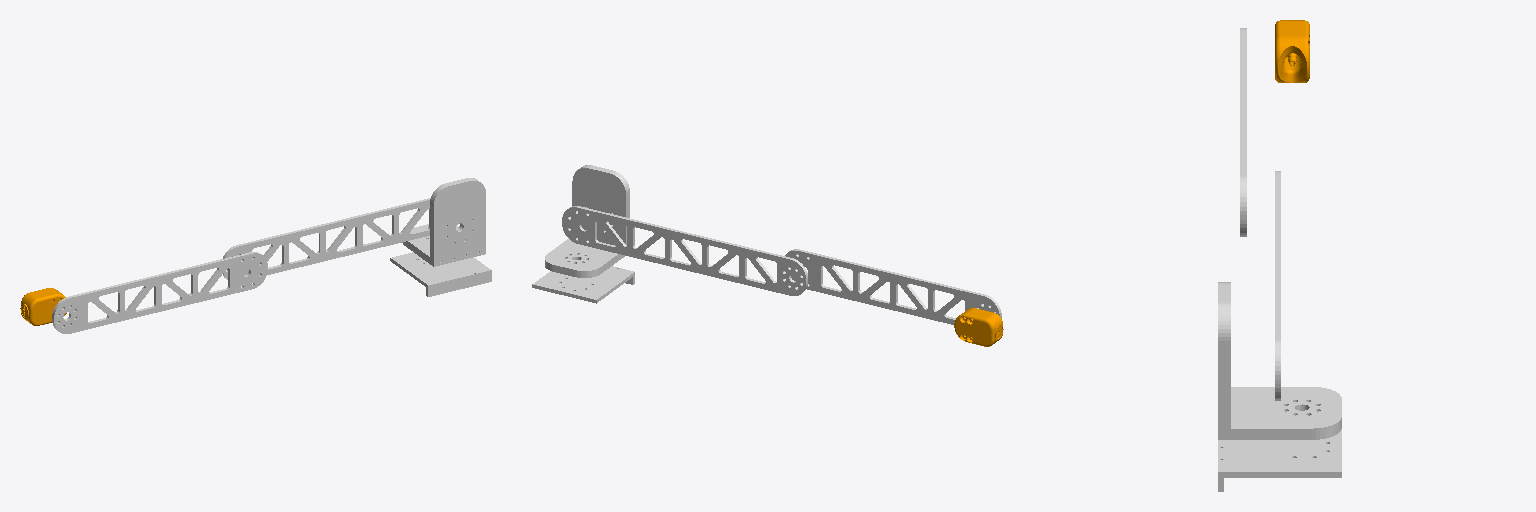
robot.urdf — pokerBot:
<?xml version="1.0"?>

<robot name="pokerBot">

    <link name="world"/>

    <joint name="placement" type="fixed"> <!-- Placement of base w.r.t world -->
        <parent link="world"/>
        <child link="baseplate"/>
        <origin xyz="0 0 0" rpy="0 0 0"/>
    </joint>

    <link name="baseplate">
        <visual>
            <origin xyz="0 0.0625 0" rpy="1.5708 0 -1.5708"/> <!-- Placement of baseplate VISUAL -->
                <geometry>
                    <mesh filename="package://pb_utils/meshes/base_Ass.STL"
                                scale="0.001 0.001 0.001"/>
                </geometry>
                <material name="metal"/>
        </visual>
    </link>

    <joint name="baseplate" type="fixed">
        <parent link="baseplate"/>
        <child link="basemotor"/>
        <origin xyz="0 0.085 0.0067" rpy="0 0 0"/> <!-- Baseplate connection to basemotor frame -->
    </joint>

    <!-- BASE MOTOR: Thickness: X5 = 31.1mm, X8 = 45.1mm -->
    <link name="basemotor">
        <visual>
            <origin xyz="0 0 0" rpy="0 0 1.5708"/>
            <geometry>
                <mesh filename="package://pb_utils/meshes/X5.stl"
	      scale="0.001 0.001 0.001"/>
            </geometry>
            <material name="hebi"/>
        </visual>
    </link>

    <joint name="base" type="continuous"> <!-- Revolute pan angle joint -->
        <parent link="basemotor"/>
        <child link="lbracket"/>
        <origin xyz="0 0 0.0311" rpy="0 0 0"/>
        <axis xyz="0 0 1"/>
    </joint>

    <link name="lbracket">
        <visual>
        <origin xyz="0 0 0" rpy="1.5708 0 0"/>
            <geometry>
                <mesh  filename="package://pb_utils/meshes/lb_ass.STL"
                scale="0.001 0.001 0.001"/>
            </geometry>
            <material name="metal"/>
        </visual>
    </link>

    <joint name="lbracket" type="fixed">
        <parent link="lbracket"/>
        <child link="shouldermotor"/>
        <origin xyz="0 -0.0725 0.060" rpy="0 -1.5708 0"/> <!-- L BRACKET DIMENIONS -->
    </joint>

    <!-- SHOULDER MOTOR: Thickness: X5 = 31.1mm, X8 = 45.1mm -->
    <link name="shouldermotor">
        <visual>
            <origin xyz="0 0 0" rpy = "-1.5708 3.1412 0"/>
            <geometry>
                <mesh filename="package://pb_utils/meshes/X8.stl"
	      scale="0.001 0.001 0.001"/>
            </geometry>
            <material name="hebi"/>
        </visual>
    </link>

    <joint name="shoulder" type="continuous">
        <parent link="shouldermotor"/>
        <child link="upperarm"/>
        <origin xyz="0 0.0451 0" rpy="0 0 0"/> <!-- Revolute shoulder joint location -->
        <axis xyz="0 1 0"/>
    </joint>

    <link name="upperarm">
        <visual>
            <origin xyz="0.03255 0 -0.04" rpy = "0 -1.5708 0"/>
            <geometry>
                <mesh filename="package://pb_utils/meshes/18in_Arm_V2.STL"
                            scale="0.001 0.001 0.001"/>
            </geometry>
            <material name="metal"/>
        </visual>
    </link>

    <joint name="upperarm" type="fixed">
        <parent link="upperarm"/>
        <child link="elbowmotor"/>
        <origin xyz="0 0 0.3922" rpy="0 0 0"/> <!-- upperarm dimension -->
    </joint>

    <!-- Elbow motor.  Thickness: X5 = 31.1mm, X8 = 45.1mm -->
    <link name="elbowmotor">
        <visual>
            <origin xyz="0 0 0" rpy = "1.5708 -1.5708 0"/>
            <geometry>
                <mesh filename="package://pb_utils/meshes/X5.stl"
	      scale="0.001 0.001 0.001"/>
            </geometry>
            <material name="hebi"/>
        </visual>
    </link>

    <joint name="elbow" type="continuous">
        <parent link="elbowmotor"/>
        <child  link="lowerarm"/>
        <origin xyz="0 -0.035 0" rpy="0 0 0"/>
        <axis   xyz="0 -1 0"/>
    </joint>

    <!-- Shift across the upper arm (1/4in thickness) -->
    <link name="lowerarm">
        <visual>
            <origin xyz="0.03255 0 -0.04" rpy = "0 -1.5708 0"/>
            <geometry>
                <mesh filename="package://pb_utils/meshes/16in_Arm_V2.STL"
                            scale="0.001 0.001 0.001"/>
            </geometry>
            <material name="metal"/>
        </visual>
    </link>

    <joint name="lowerarm" type="fixed">
        <parent link="lowerarm"/>
        <child  link="tipmotor"/>
        <origin xyz="0 0 0.3411" rpy="0 0 0"/>		  <!-- LOWER ARM DIMENIONS -->
    </joint>

    <!-- Tip motor.  Thickness: X5 = 31.1mm, X8 = 45.1mm -->
    <link name="tipmotor">
        <visual>
            <origin xyz="0 0.0067 0" rpy = "-1.5708 -1.5708 0"/>
            <geometry>
                <mesh filename="package://pb_utils/meshes/X5.stl"
	      scale="0.001 0.001 0.001"/>
            </geometry>
            <material name="hebi"/>
        </visual>
    </link>

    <joint name="tip" type="continuous">
        <parent link="tipmotor"/>
        <child link="cup"/>
        <origin xyz="0 0.035 0" rpy="0 -1.5708 0"/>
        <axis xyz="0 1 0"/>
    </joint>

    <link name="cup">
        <visual>
            <origin xyz="0 0 0" rpy="0 0 0"/>
                <geometry>
                    <mesh filename="package://pb_utils/meshes/endeff_ass.STL"
                                scale="0.001 0.001 0.001"/>
                </geometry>
            <material name="plastic"/>
        </visual>
    </link>

    <!-- VISUAL LINK ELEMENTS -->

    <material name="metal"> <color rgba=".89 .89 .89 1"/> </material>
    <material name="hebi">  <color rgba="0.82 0.06 0.06 1"/>  </material>
    <material name="plastic"> <color rgba="1 .65 0 1"/> </material>

</robot>

--- What the picture shows (computed from the rendered views, not written in the file) ---
3 views of the same robot in one strip: view 1: azimuth 30°, elevation 25°; view 2: azimuth 150°, elevation 25°; view 3: azimuth 270°, elevation 25° (orthographic).
Robot: pokerBot — 10 links, 9 joints (4 continuous, 5 fixed); root link world; default pose: every joint at zero.
Links seen in each view (by area): view 1: lowerarm, lbracket, upperarm, baseplate, cup; view 2: upperarm, lowerarm, lbracket, baseplate, cup; view 3: lbracket, baseplate, cup, lowerarm, upperarm.
Link boxes in pixels (x1,y1,x2,y2): lowerarm: (52, 252, 267, 333); lbracket: (402, 178, 485, 266); upperarm: (223, 198, 430, 279); baseplate: (390, 252, 491, 296); cup: (20, 288, 66, 325); upperarm: (562, 206, 807, 295); lowerarm: (785, 249, 1001, 324); lbracket: (545, 165, 629, 277); baseplate: (532, 266, 634, 303); cup: (954, 308, 1003, 346); lbracket: (1218, 282, 1341, 439); baseplate: (1218, 429, 1341, 491); cup: (1275, 20, 1309, 82); lowerarm: (1240, 28, 1246, 236); upperarm: (1275, 171, 1280, 400).
Size in the robot's own frame: 0.8451 by 0.125 by 0.1928 metres.
5 mesh visuals loaded from 7 distinct referenced files (5 binary STL); not drawn: 4 (reference not matched to a file when rendering).
